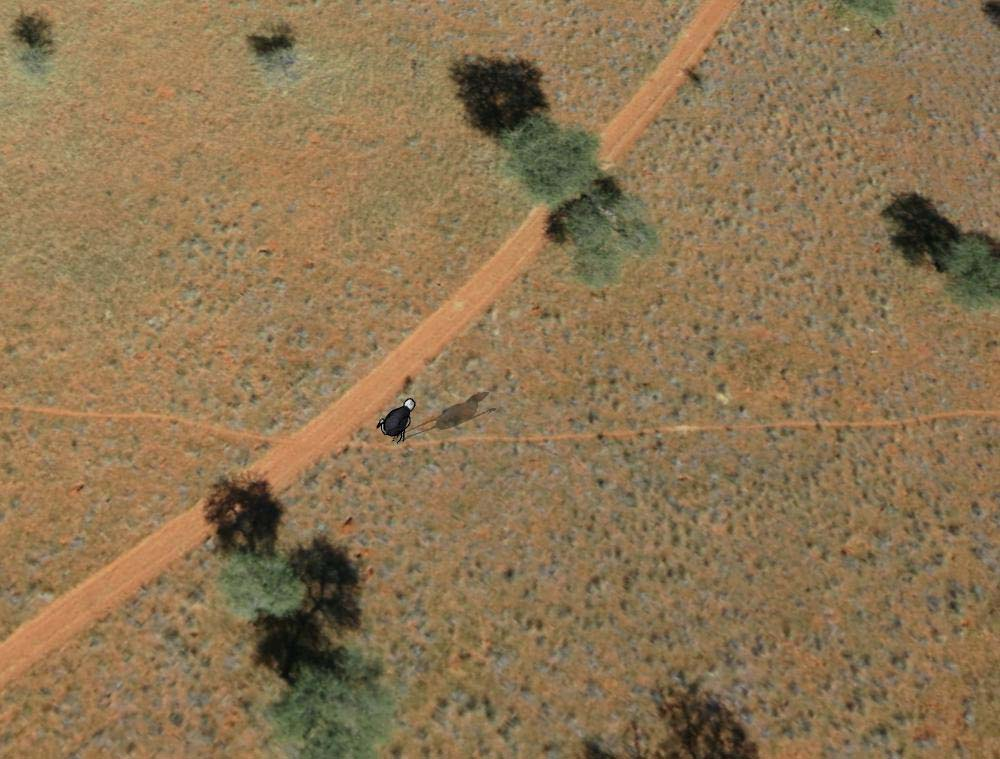ostrich: (369, 398, 420, 444)
